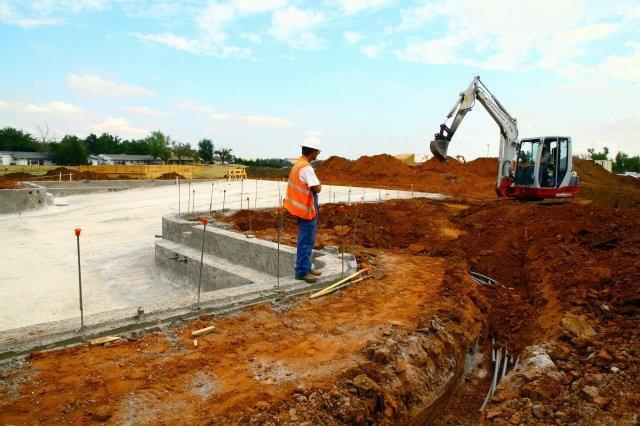person: (275, 132, 337, 293)
vest: (285, 157, 321, 218)
